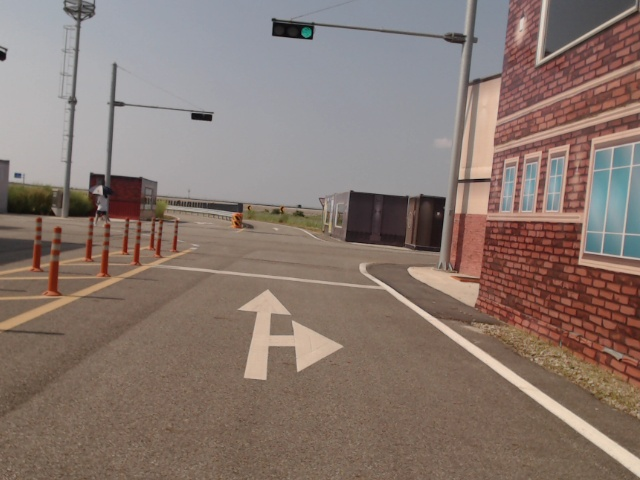green_3: (272, 22, 314, 40)
